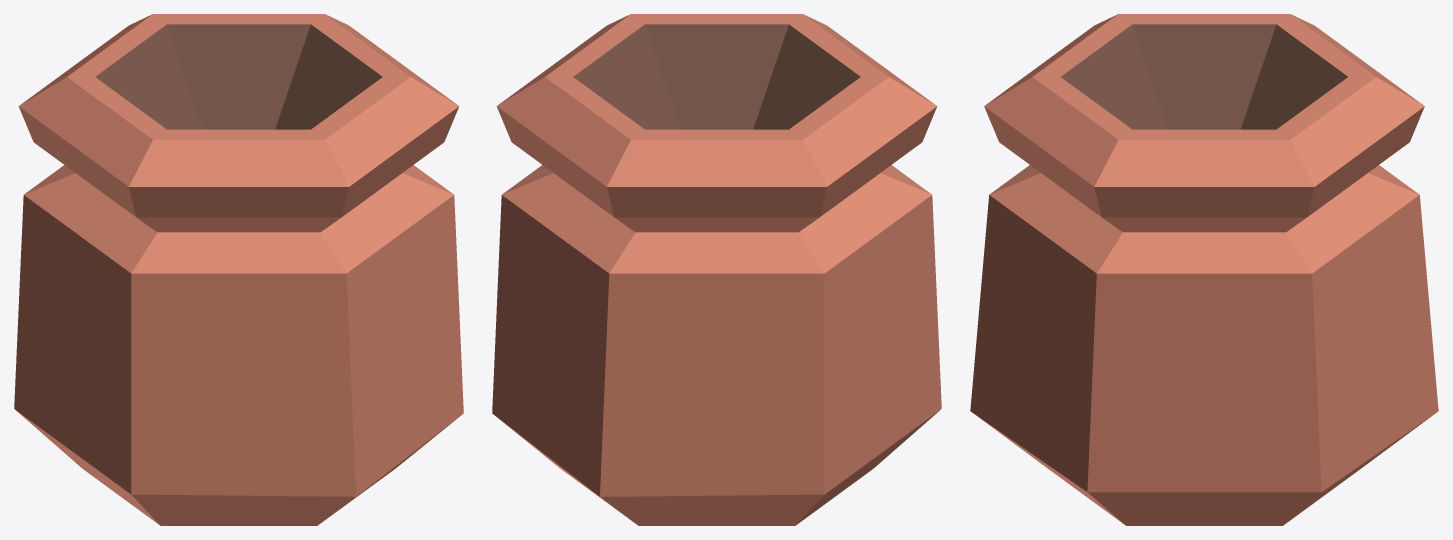
The model's file is props_056.glb.
3 views of the same model, side by side, from view 1: azimuth 30°, elevation 25°; view 2: azimuth 150°, elevation 25°; view 3: azimuth 270°, elevation 25° (orthographic).
Parts seen in each view (by area): view 1: props_056; view 2: props_056; view 3: props_056.
Boxes of the visible parts, x1=… form: props_056: x1=14, y1=14, x2=463, y2=525; props_056: x1=492, y1=14, x2=941, y2=525; props_056: x1=970, y1=14, x2=1438, y2=525.
Size of the model in its own units: 0.6566 by 0.739 by 0.8008.
1 material, 1 textured.
